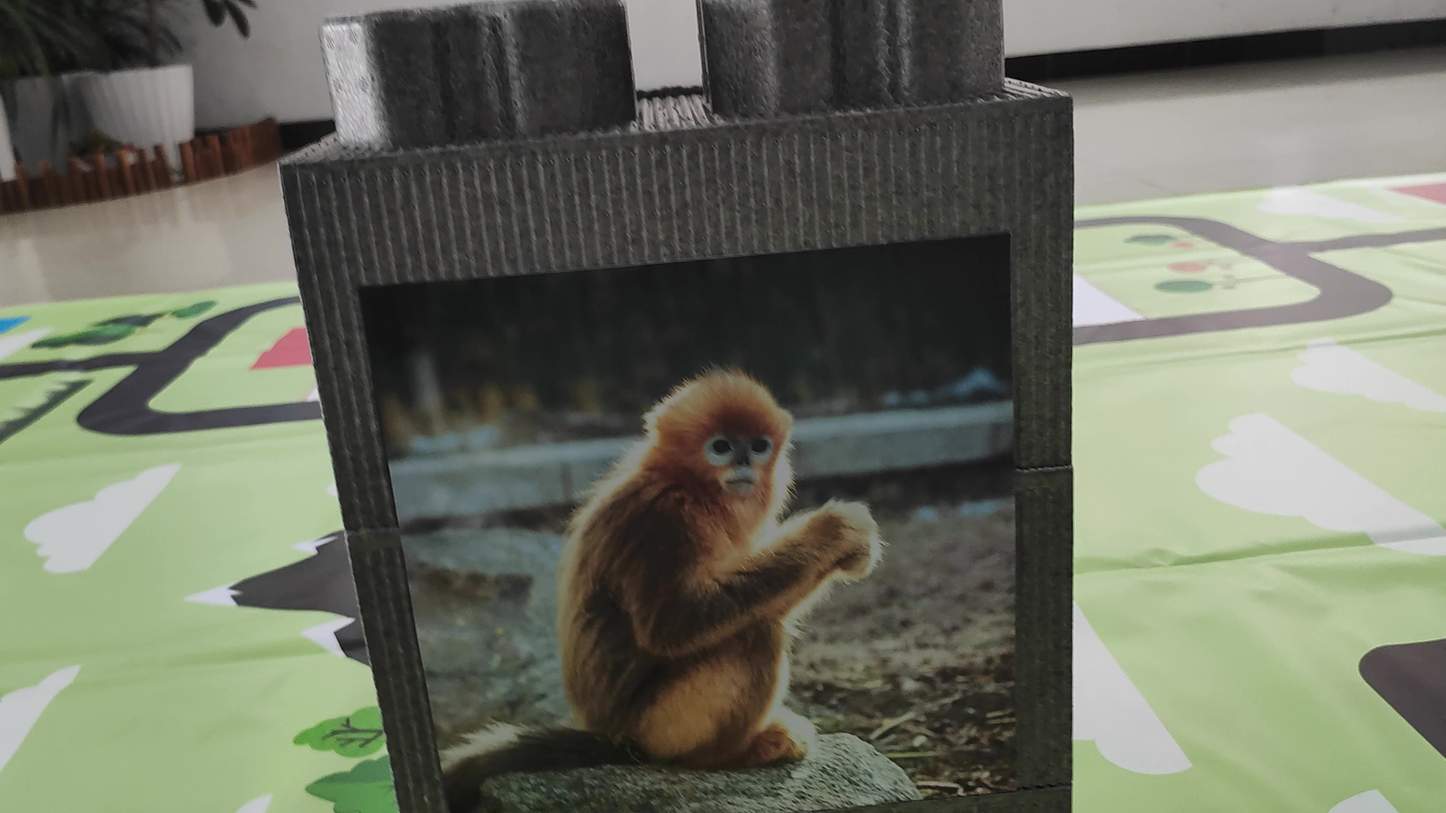monkey: (450, 323, 906, 804)
